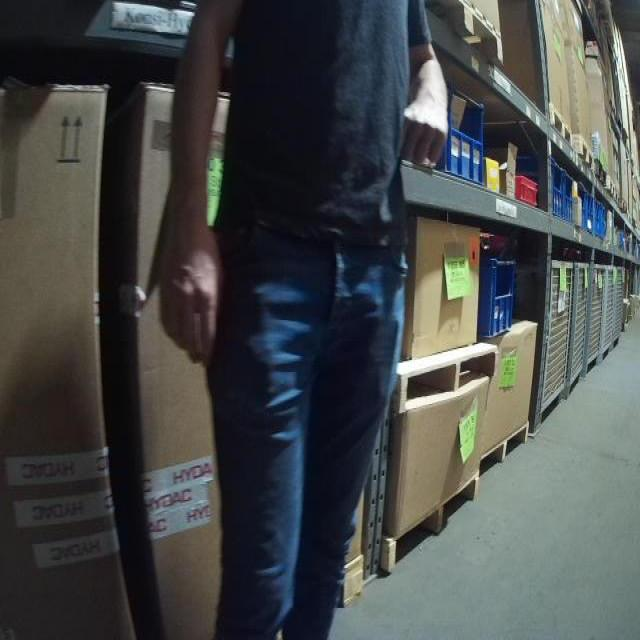pallet: (379, 469, 479, 582), (395, 338, 496, 417), (416, 1, 506, 68), (475, 417, 534, 484), (546, 105, 579, 151), (575, 131, 595, 173)
small_load_carrier: (430, 81, 492, 187), (481, 252, 525, 342), (507, 153, 565, 220), (513, 173, 540, 211), (581, 188, 597, 231), (594, 199, 610, 239), (565, 170, 576, 227)
stillage: (510, 251, 569, 436), (567, 257, 586, 400), (588, 261, 603, 385), (602, 262, 614, 363), (615, 261, 627, 352)
